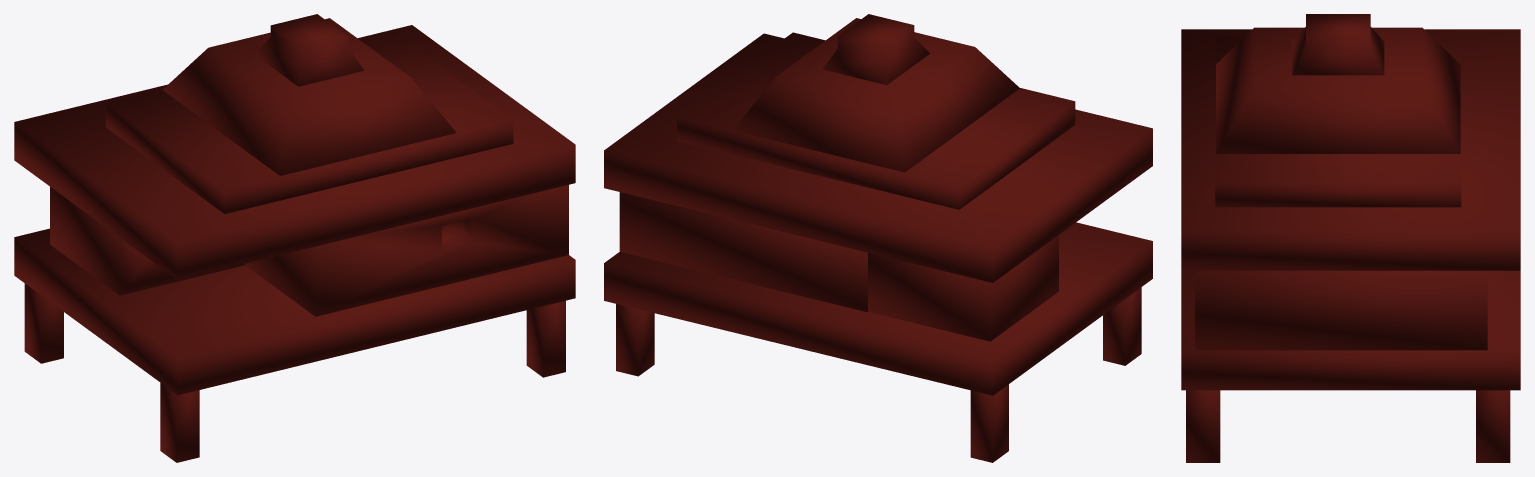
The model's file is Licorice  Hut.obj.
3 renders of one model, left to right at view 1: azimuth 30°, elevation 25°; view 2: azimuth 150°, elevation 25°; view 3: azimuth 270°, elevation 25°, orthographic. The views are drawn at different scales.
Visible parts, largest first — view 1: Licorice__Hut; view 2: Licorice__Hut; view 3: Licorice__Hut.
Part boxes in pixels (box(x1,y1,x2,y2)): Licorice__Hut: box(14, 14, 575, 462); Licorice__Hut: box(604, 14, 1152, 462); Licorice__Hut: box(1181, 14, 1520, 462).
Size of the model in its own units: 93.04 by 74.22 by 66.21.
